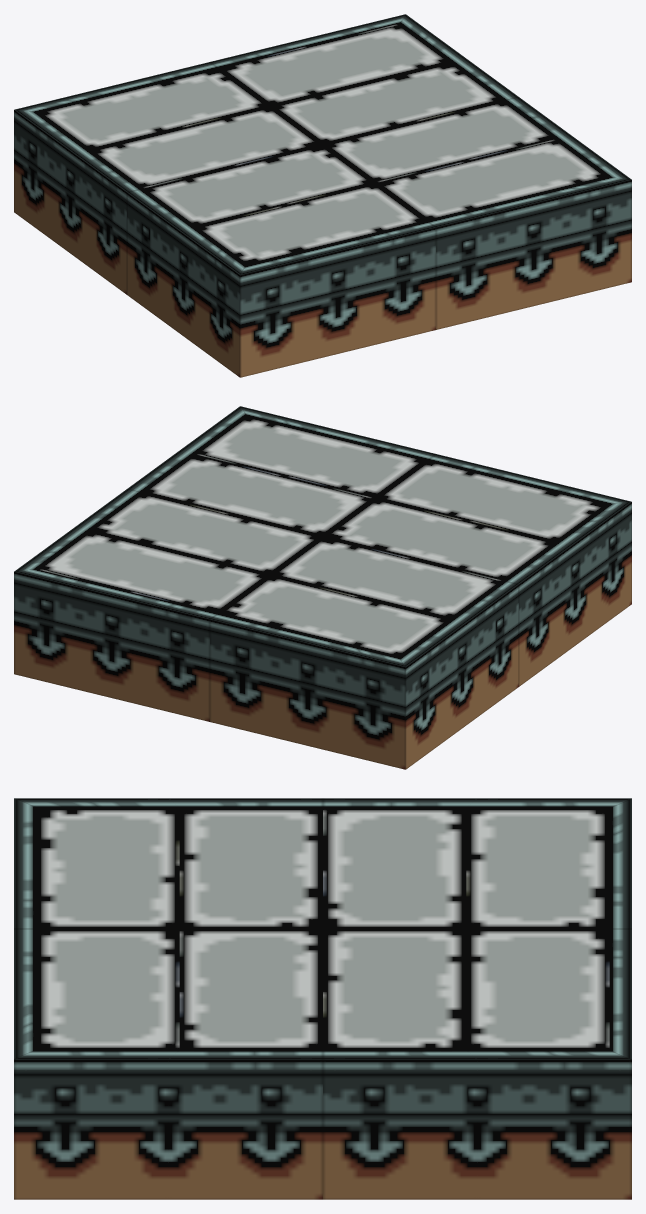
The model's file is deco_cathedral_metalFrameLarge.FBX.
3 views of the same model, one above another, from view 1: azimuth 30°, elevation 25°; view 2: azimuth 150°, elevation 25°; view 3: azimuth 270°, elevation 25° (orthographic). The views are drawn at different scales.
Visible parts, largest first — view 1: deco_cathedral_metalFrameLarge; view 2: deco_cathedral_metalFrameLarge; view 3: deco_cathedral_metalFrameLarge.
Part boxes in pixels (bbox=[...]): deco_cathedral_metalFrameLarge: bbox=[14, 14, 631, 377]; deco_cathedral_metalFrameLarge: bbox=[14, 406, 631, 769]; deco_cathedral_metalFrameLarge: bbox=[14, 798, 631, 1199].
Size of the model in its own units: 2 by 0.5 by 2.
1 material, 1 textured.
